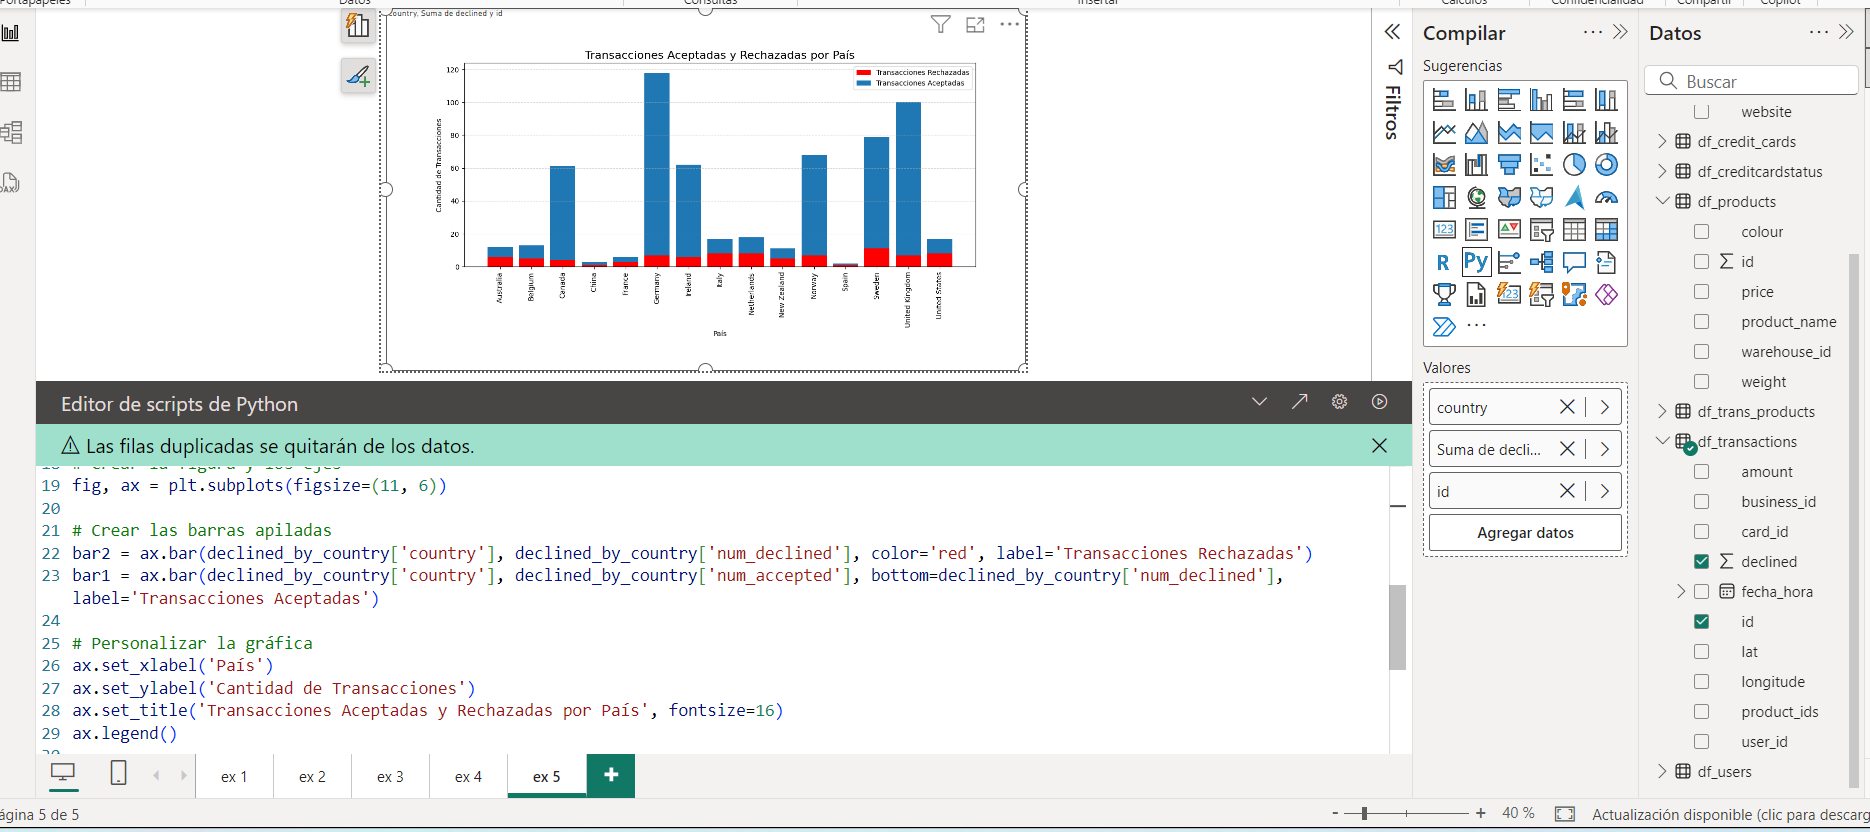

Layout of this report page (visuals, bound fields, positions):
{"tool":"powerbi","page":{"name":"ex 5","canvas":[1280,720],"ordinal":4},"visuals":[{"type":"pythonVisual","fields":{"Values":["df_companies.country","Sum(df_transactions.declined)","df_transactions.id"]},"box":[9.9,0,1269.5,719],"z":0}]}

Visuals, with their boxes on the page's 1280x720 design canvas (x1, y1, x2, y2). These are canvas units, not pixel positions in the 1870x832 screenshot, which may show the page scaled, cropped or inside an application window:
pythonVisual - df_companies.country x Sum(df_transactions.declined): BBox(10, 0, 1279, 719)
